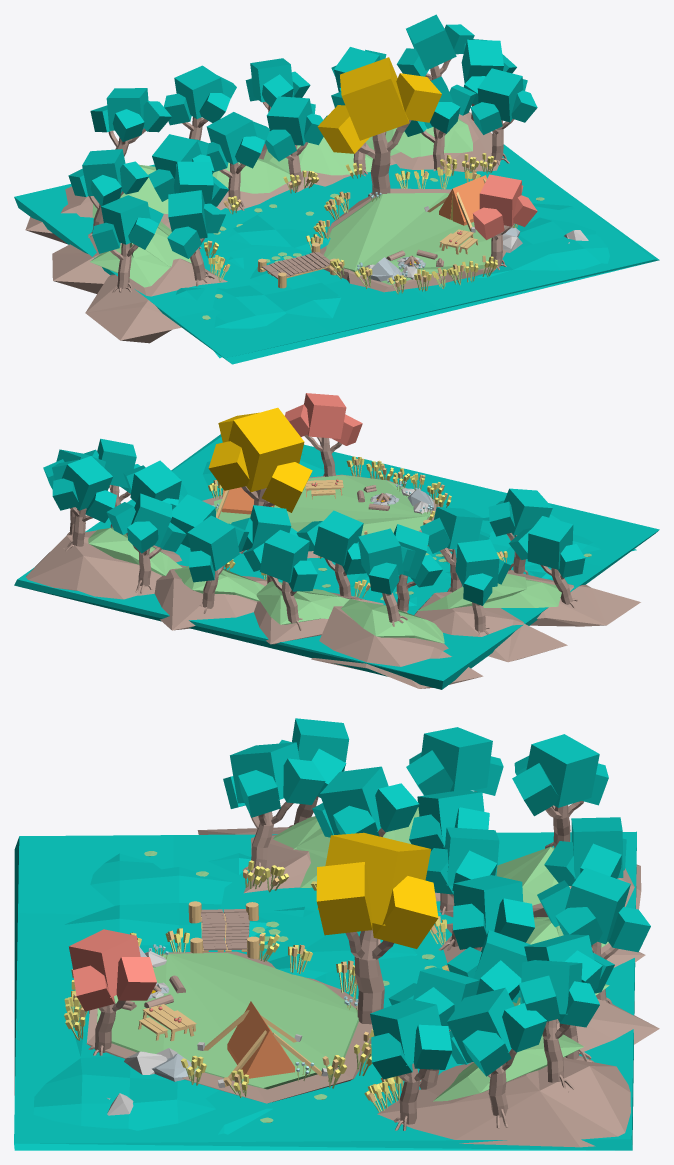
Rendered from camp.glb.
The picture shows the model from 3 angles, top to bottom: view 1: azimuth 30°, elevation 25°; view 2: azimuth 150°, elevation 25°; view 3: azimuth 270°, elevation 25°; orthographic projection. The views are drawn at different scales.
Visible parts, largest first — view 1: water_flat, group1996960513, group151683662, water_move, group603141852, water_move.001, group1472950353, group1052670248, group760265186, group2099061238, group1420377134, group1774111551 (+25 smaller); view 2: water_flat, group151683662, group1297782163, group1996960513, group880033640, group1242887192, group1004619122, group1776715167, group760265186, group1472950353, group1774111551, group853010250 (+23 smaller); view 3: water_flat, group1996960513, group151683662, group1297782163, water_move.001, water_move, group912524470, group1327080236, group684750817, group1052670248, group1774111551, group761897651 (+27 smaller).
Part boxes in pixels (box(x1,y1,x2,y2)): water_flat: box(14, 143, 659, 364); group1996960513: box(323, 193, 491, 284); group151683662: box(317, 57, 441, 196); water_move: box(176, 264, 340, 358); group603141852: box(85, 258, 227, 343); water_move.001: box(476, 203, 609, 277); group1472950353: box(92, 195, 163, 292); group1052670248: box(470, 68, 537, 165); group760265186: box(163, 65, 236, 140); group2099061238: box(206, 112, 269, 210); group1420377134: box(68, 149, 148, 238); group1774111551: box(472, 174, 537, 269); water_flat: box(14, 434, 659, 689); group151683662: box(208, 407, 312, 553); group1297782163: box(26, 530, 181, 599); group1996960513: box(214, 475, 433, 535); group880033640: box(311, 606, 483, 688); group1242887192: box(414, 591, 567, 662); group1004619122: box(52, 456, 116, 551); group1776715167: box(106, 493, 186, 593); group760265186: box(243, 530, 317, 630); group1472950353: box(509, 516, 585, 608); group1774111551: box(285, 393, 362, 476); group853010250: box(154, 564, 267, 630); water_flat: box(14, 831, 636, 1150); group1996960513: box(97, 953, 358, 1089); group151683662: box(316, 832, 438, 1024); group1297782163: box(377, 1055, 630, 1147); water_move.001: box(33, 1032, 272, 1134); water_move: box(64, 853, 270, 945); group912524470: box(447, 987, 546, 1128); group1327080236: box(223, 742, 325, 877); group684750817: box(512, 734, 608, 848); group1052670248: box(370, 999, 452, 1130); group1774111551: box(69, 929, 156, 1055); group761897651: box(537, 867, 650, 1004).
Bounding box in the file's own units: 4.24 × 1.43 × 3.31.
